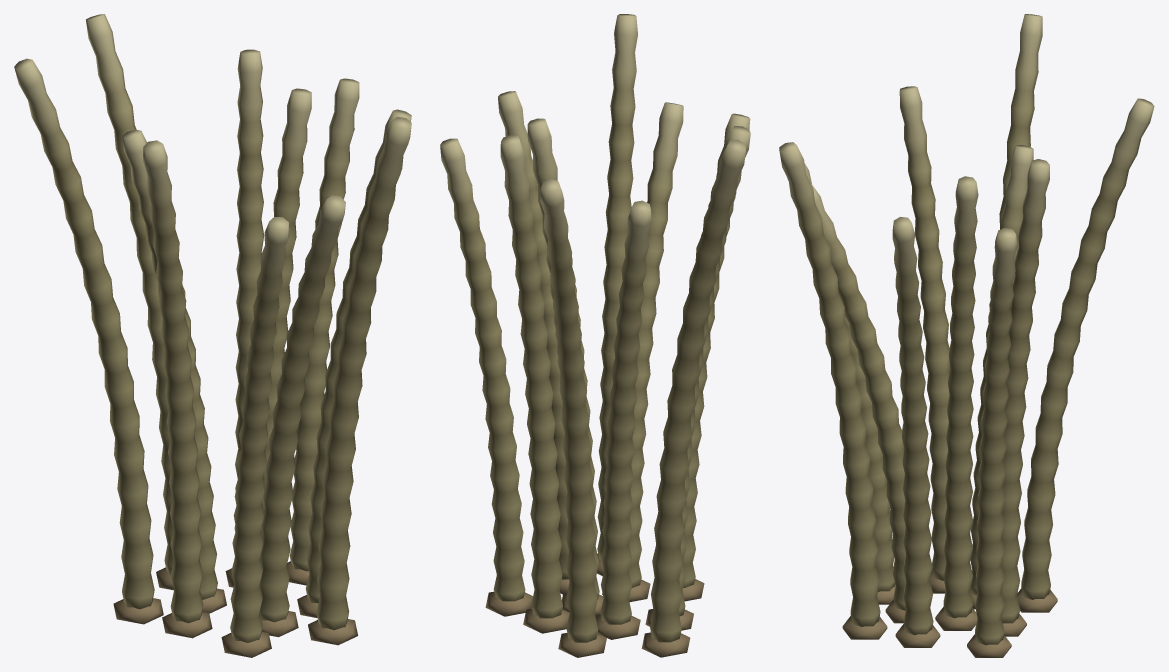
Rendered from Funisia.fbx.
3 renders of one model, left to right at view 1: azimuth 30°, elevation 25°; view 2: azimuth 150°, elevation 25°; view 3: azimuth 270°, elevation 25°, orthographic. The views are drawn at different scales.
Parts seen in each view (by area): view 1: Funisia; view 2: Funisia; view 3: Funisia.
Boxes of the visible parts, <box> form: Funisia: <box>14,14,411,657</box>; Funisia: <box>440,14,750,657</box>; Funisia: <box>779,14,1154,657</box>.
Bounding box in the file's own units: 0.6689 × 1.1 × 0.7132.
